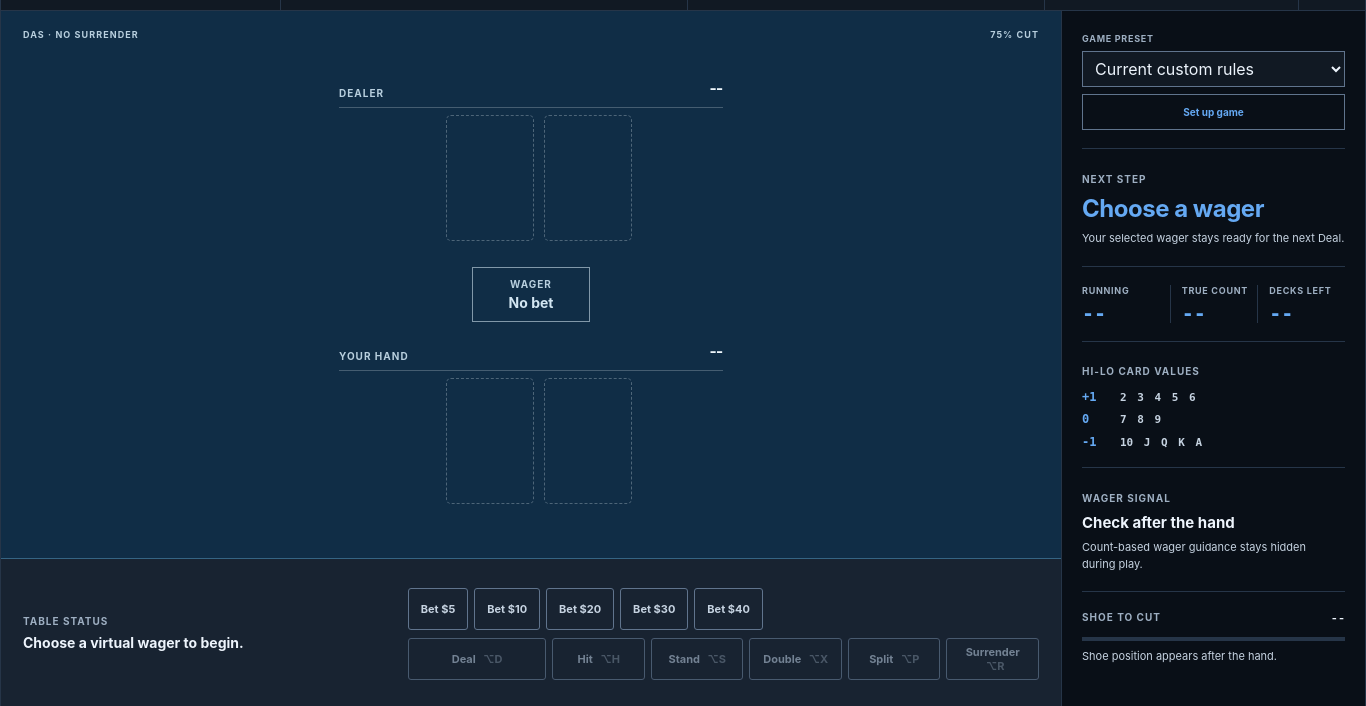
BlackjackTable › flags a count-based deviation miss with the indexed action
Step 1. Click the button "Bet $5" → coordinates (438, 609), box x1=408 y1=588 x2=468 y2=630
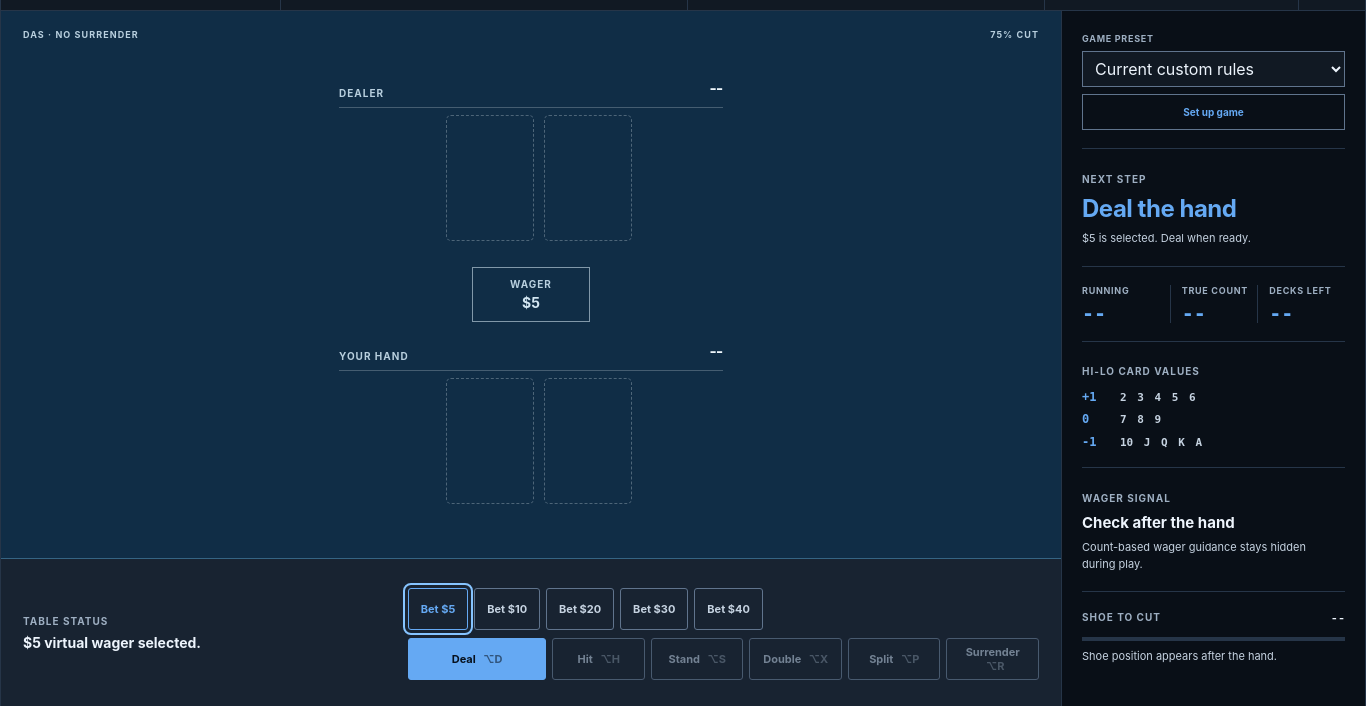
Step 2. Click the button "Deal ⌥D" → coordinates (477, 659), box x1=408 y1=638 x2=546 y2=680
(page scrolled)
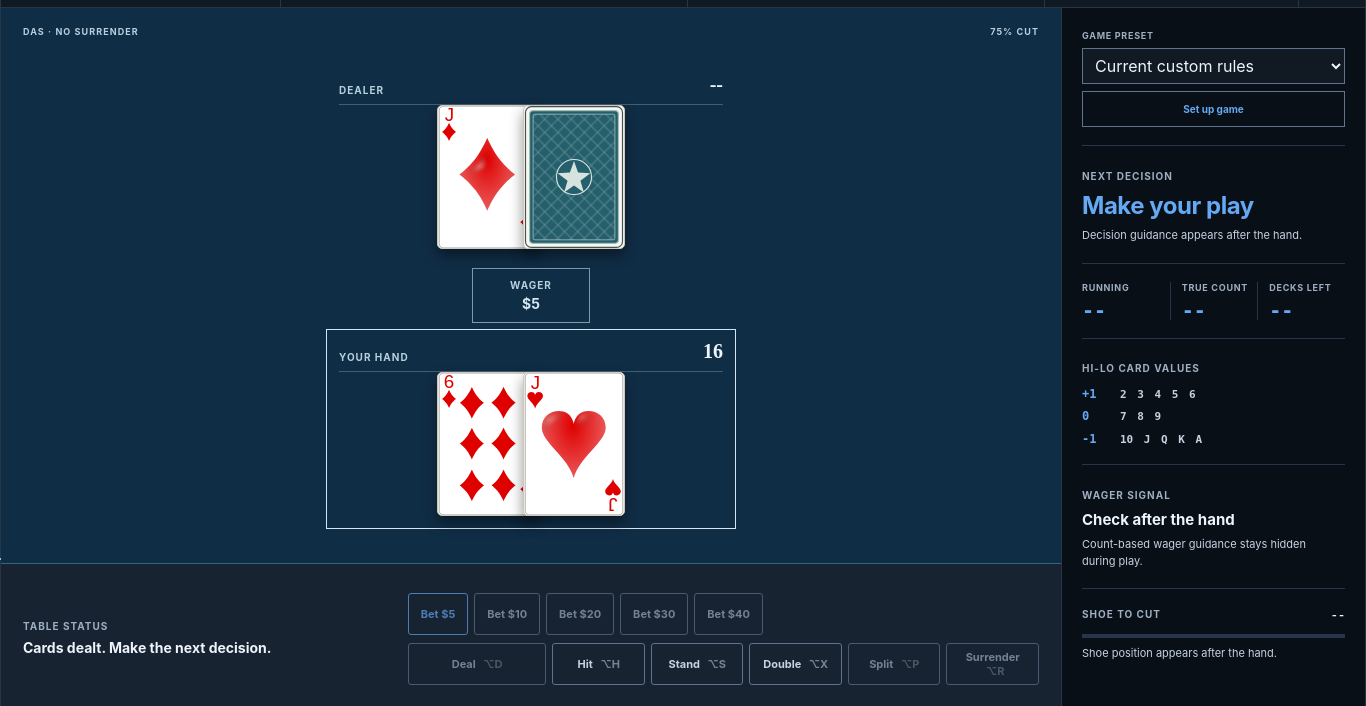
Step 3. Click the button "Hit ⌥H" → coordinates (599, 664), box x1=552 y1=643 x2=645 y2=685
(page scrolled)
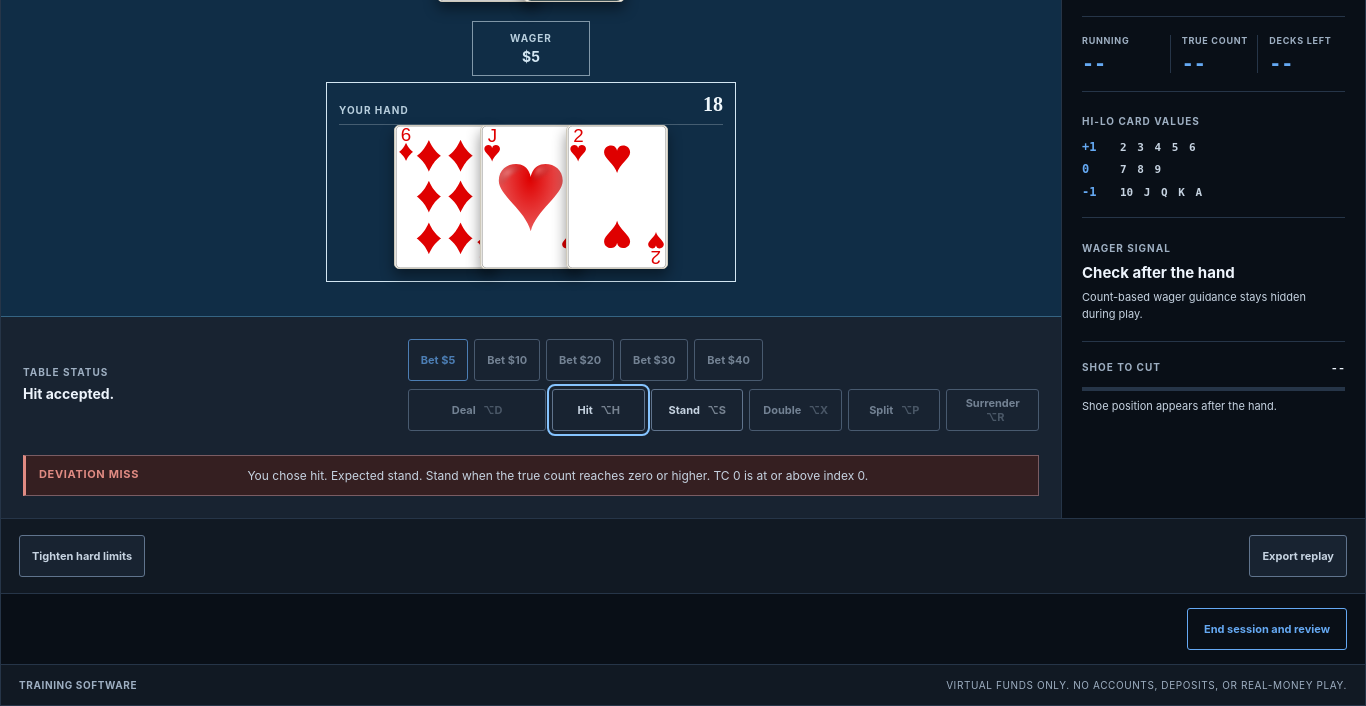
Result: the message shows "Deviation miss" at x1=39 y1=467 x2=139 y2=481
Result: the message shows "You chose hit. Expected stand." at x1=247 y1=468 x2=868 y2=483
Result: the message shows "index 0" at x1=247 y1=468 x2=868 y2=483
